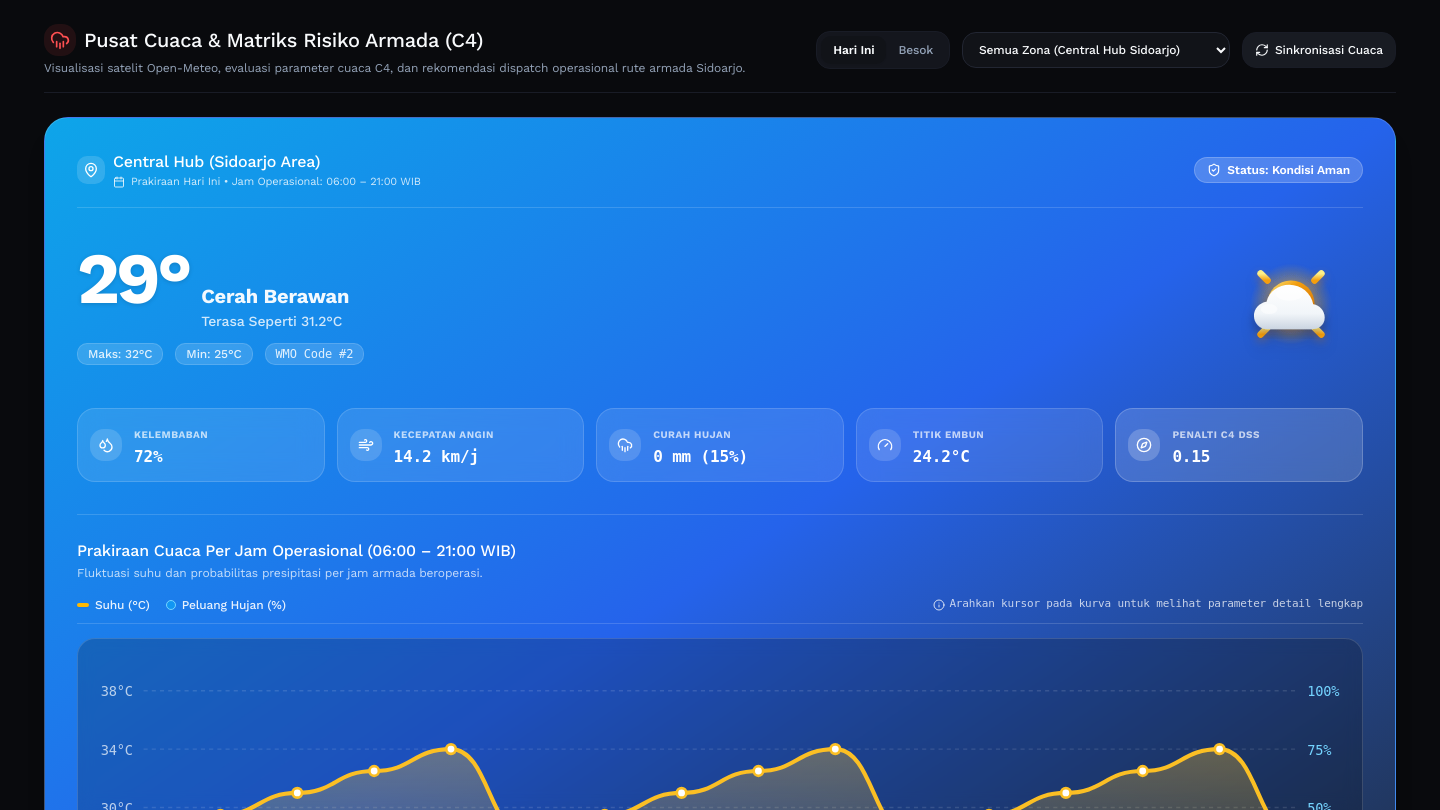
Test: Operational Weather Page & Spatial Risk Matrix › handles date switching between Hari Ini and Besok and toggles timeline context
Expected: the button "Hari Ini" is shown, [821, 36, 886, 64]
Expected: the text "Prakiraan Hari Ini • Jam Operasional: 06:00 – 21:00 WIB" is shown, [113, 174, 421, 190]
Click the button "Besok" at (916, 50), box [886, 36, 945, 64]
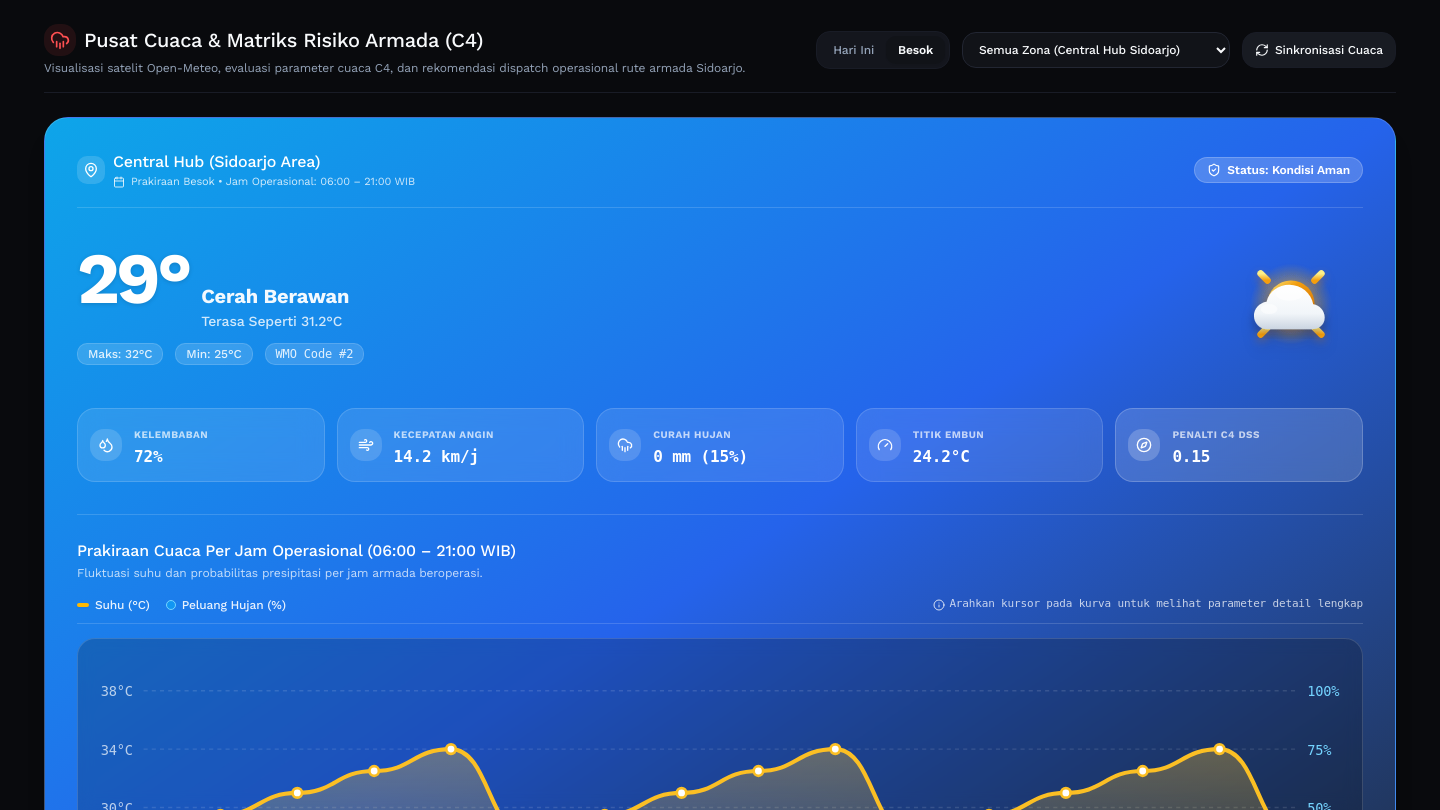
Result: the text "Prakiraan Besok • Jam Operasional: 06:00 – 21:00 WIB" is shown at [113, 174, 415, 190]
